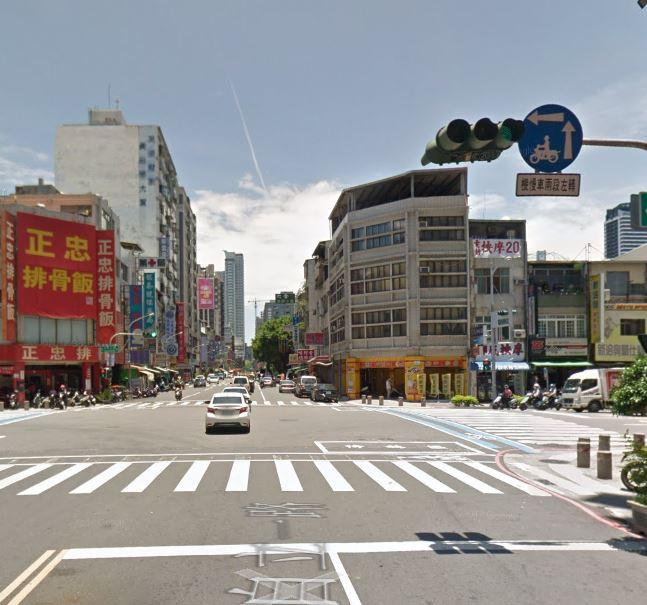green_traffic_light: (418, 112, 521, 174)
